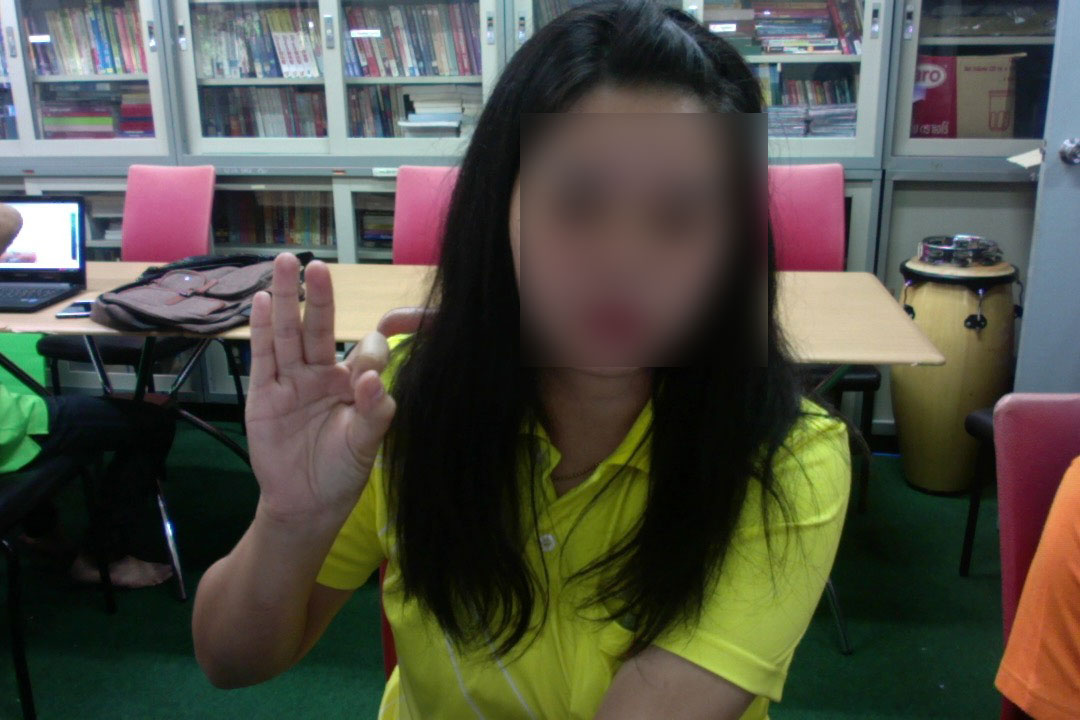for: (236, 244, 402, 512)
